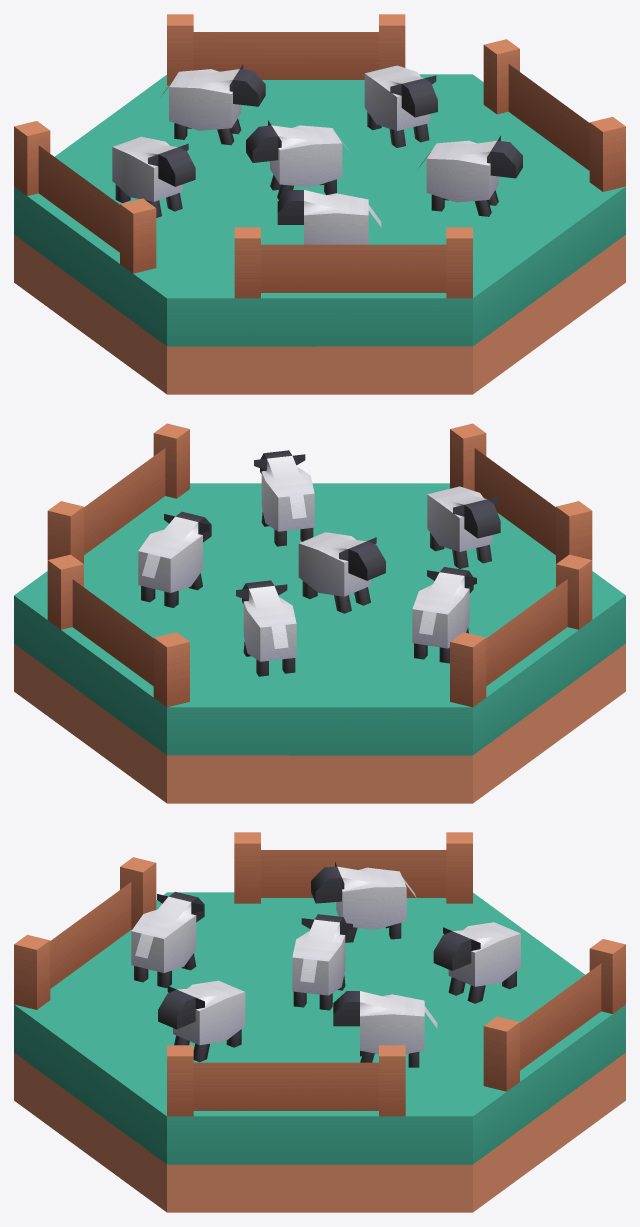
File: building-sheep.glb
The picture shows the model from 3 angles, top to bottom: view 1: azimuth 30°, elevation 25°; view 2: azimuth 150°, elevation 25°; view 3: azimuth 270°, elevation 25°; orthographic projection.
Visible parts, largest first — view 1: building-sheep; view 2: building-sheep; view 3: building-sheep.
Part boxes in pixels (box(x1,y1,x2,y2)): building-sheep: box(14, 14, 625, 394); building-sheep: box(14, 423, 625, 803); building-sheep: box(14, 832, 625, 1212).
Size of the model in its own units: 1 by 0.3316 by 1.15.
1 material, 1 textured.
